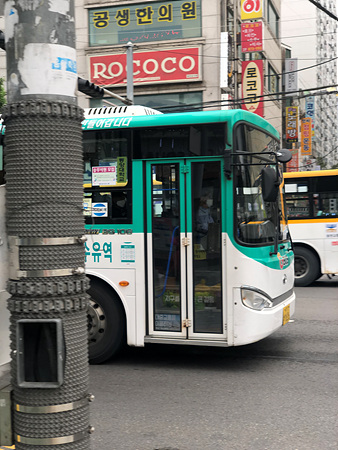entrance: (140, 153, 229, 347)
